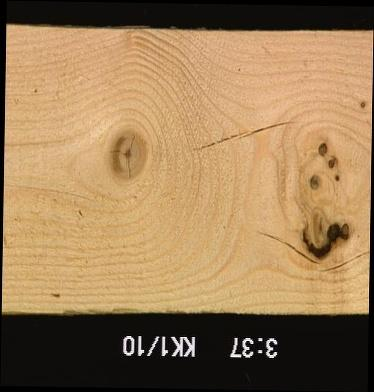dry_knot: (326, 157, 336, 170)
small_knot: (333, 173, 341, 183), (358, 100, 366, 110)
sound_knot: (108, 127, 148, 180), (316, 141, 327, 157), (309, 174, 319, 191)
split: (190, 119, 297, 153), (252, 230, 319, 265), (317, 249, 369, 274)
